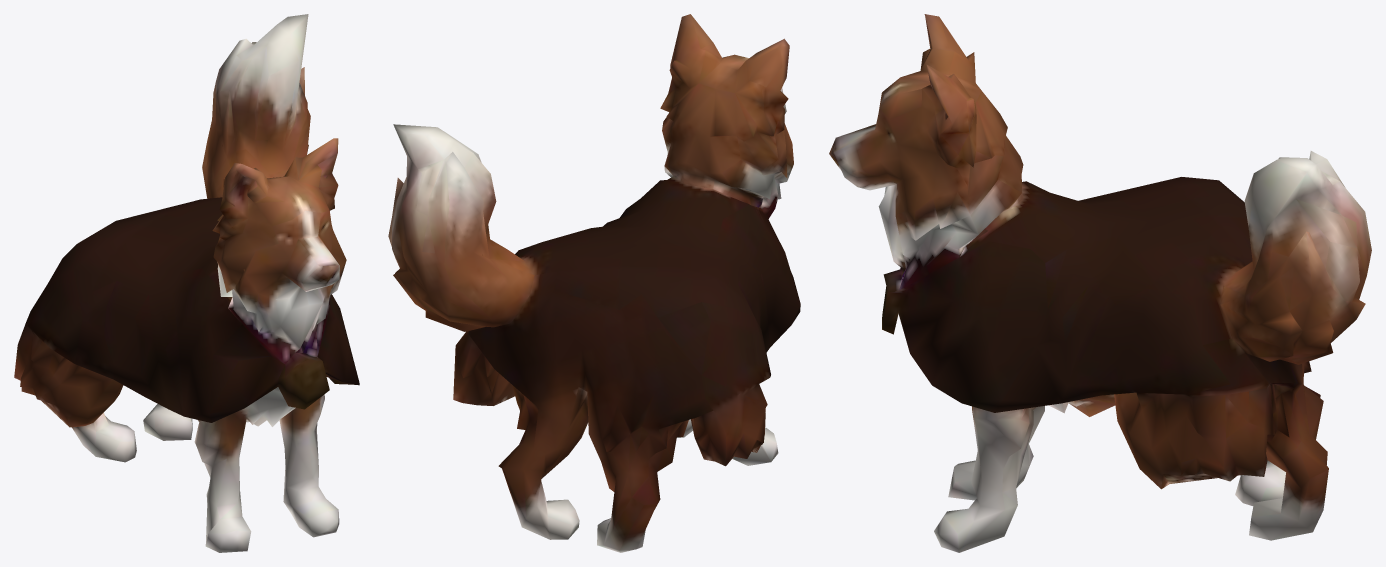
The model's file is detail_12_lo2.glb.
3 views of the same model, side by side, from view 1: azimuth 30°, elevation 25°; view 2: azimuth 150°, elevation 25°; view 3: azimuth 270°, elevation 25° (orthographic). The views are drawn at different scales.
Visible parts, largest first — view 1: Mesh_0.001; view 2: Mesh_0.001; view 3: Mesh_0.001.
Part boxes in pixels (x1,y1,x2,y2): Mesh_0.001: (14,14,359,552); Mesh_0.001: (388,14,800,552); Mesh_0.001: (829,14,1371,552).
Bounding box in the file's own units: 0.835 × 0.9797 × 1.01.
1 material, 1 textured.
